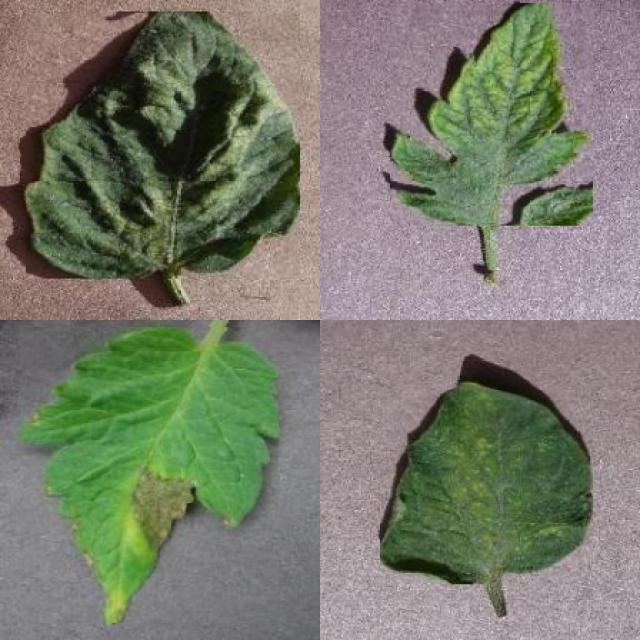Late Blight: (20, 327, 279, 623)
Mosaic Virus: (390, 3, 593, 226)
Spider Mites: (26, 12, 300, 278), (380, 380, 593, 584)
